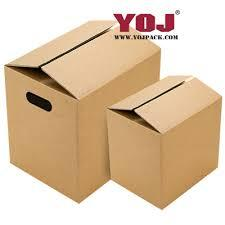Cardboard: (4, 5, 225, 214)
